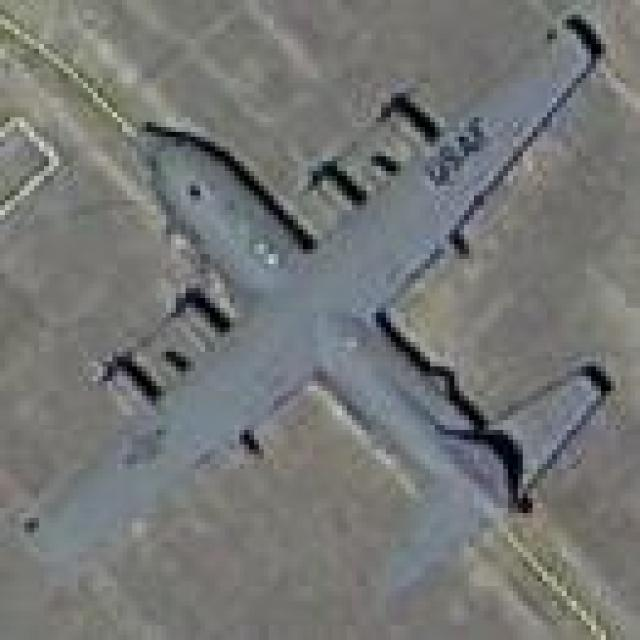C-130_TopDown: (11, 7, 612, 586)
